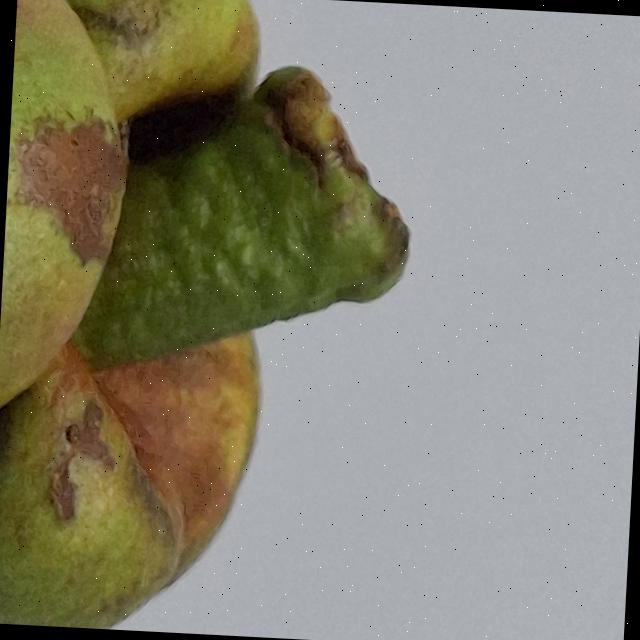mangosteen: (0, 0, 451, 640)
